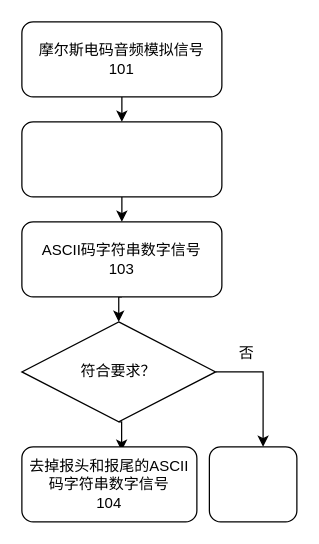
The diagram is 319 pixels wide and 544 high, and some of its shapes have lost their labels. Each missing label, with the centre of its shape:
抛弃信号: point 252,484
摩尔斯电码字符串数字信号 102: point 121,159
